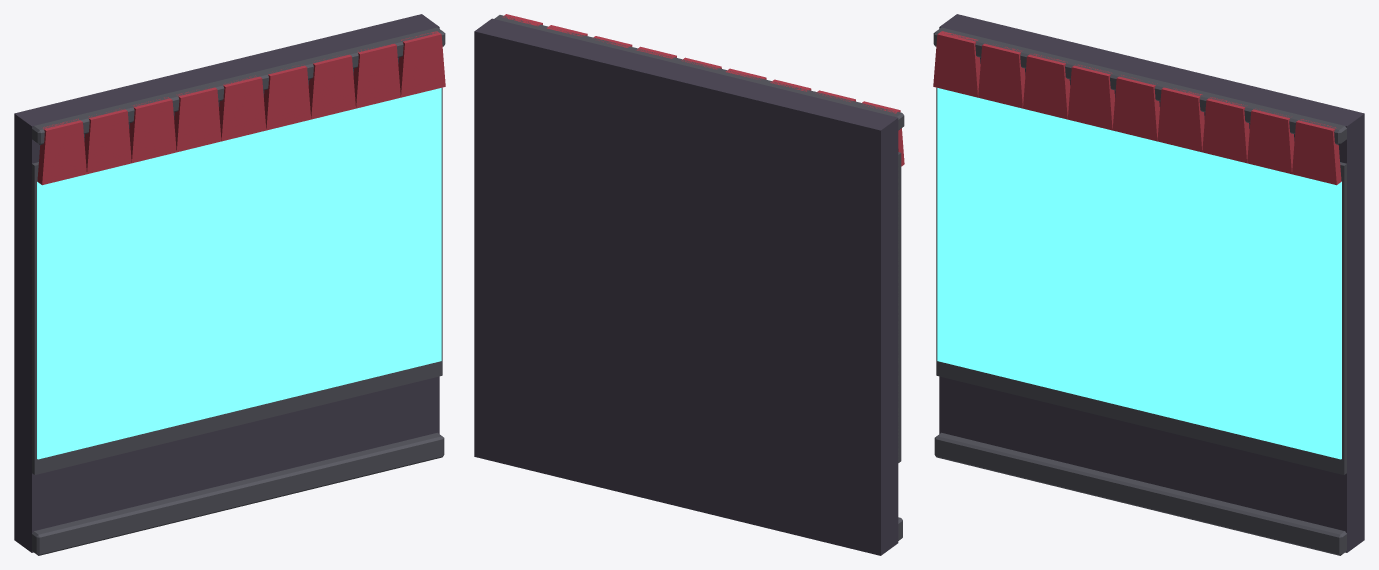
File: wall_mp_screen.glb
The picture shows the model from 3 angles, left to right: view 1: azimuth 30°, elevation 25°; view 2: azimuth 150°, elevation 25°; view 3: azimuth 330°, elevation 25°; orthographic projection.
Visible parts, largest first — view 1: wall_mp_screen; view 2: wall_mp_screen; view 3: wall_mp_screen.
Boxes of the visible parts, bbox=[...] form: wall_mp_screen: bbox=[14, 14, 445, 555]; wall_mp_screen: bbox=[474, 14, 904, 555]; wall_mp_screen: bbox=[933, 14, 1364, 555].
Bounding box in the file's own units: 4 × 4 × 0.44.
